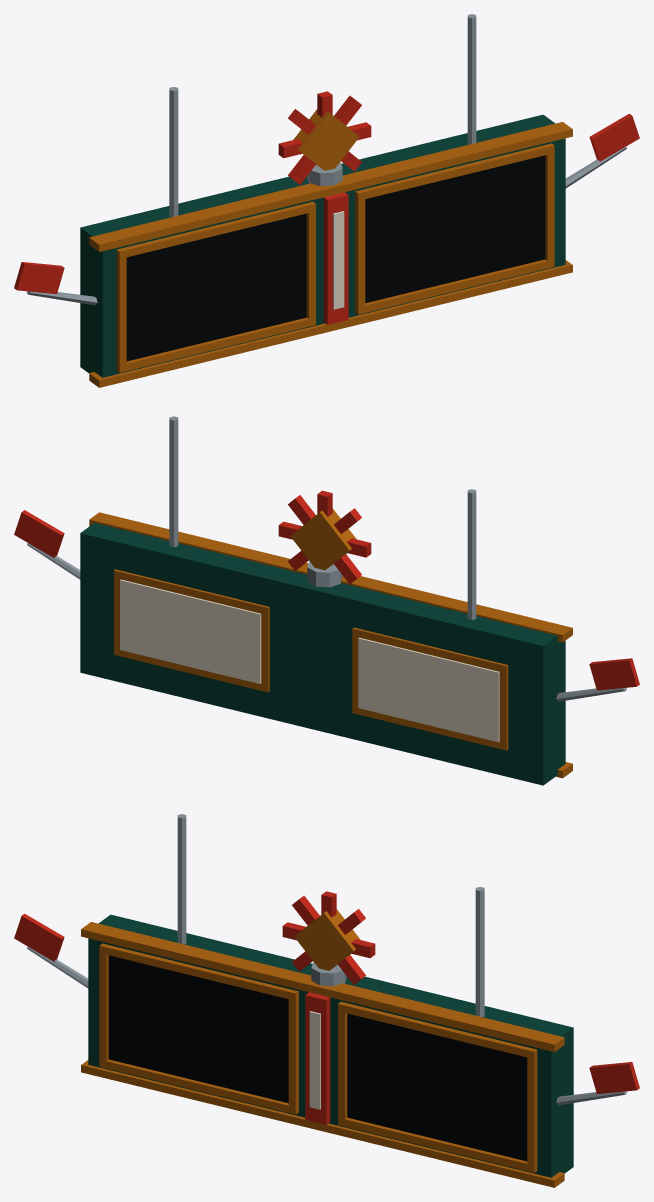
File: cozy_bowling_overhead_scoreboard.obj
The picture shows the model from 3 angles, top to bottom: view 1: azimuth 30°, elevation 25°; view 2: azimuth 150°, elevation 25°; view 3: azimuth 330°, elevation 25°; orthographic projection.
Parts seen in each view (by area): view 1: Scoreboard_Mesh; view 2: Scoreboard_Mesh; view 3: Scoreboard_Mesh.
Boxes of the visible parts, x1,y1,x2,y2 form: Scoreboard_Mesh: [14, 14, 639, 387]; Scoreboard_Mesh: [14, 416, 639, 785]; Scoreboard_Mesh: [14, 814, 639, 1187].
Size of the model in its own units: 3.55 by 1.46 by 0.295.
